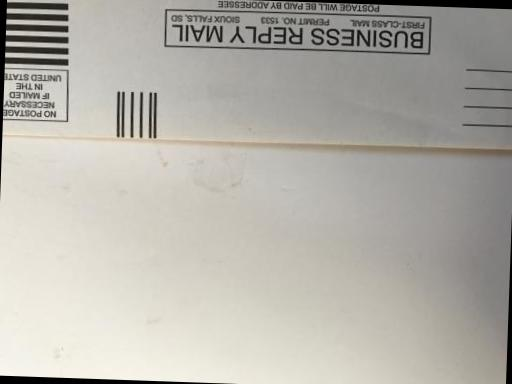Kertas: (2, 0, 512, 157)
